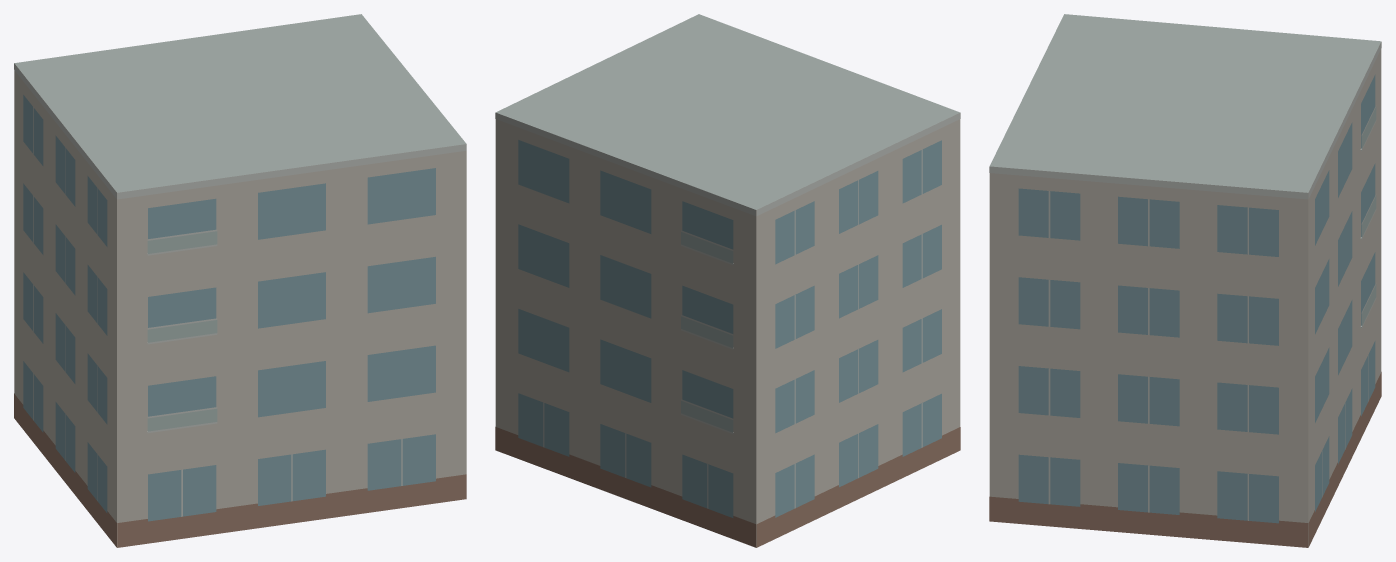
Rendered from survey-upis-32705039.glb.
3 renders of one model, left to right at view 1: azimuth 30°, elevation 25°; view 2: azimuth 150°, elevation 25°; view 3: azimuth 270°, elevation 25°, orthographic. The views are drawn at different scales.
Parts seen in each view (by area): view 1: survey-upis-32705039.tmp; view 2: survey-upis-32705039.tmp; view 3: survey-upis-32705039.tmp.
Part boxes in pixels (box(x1,y1,x2,y2)): survey-upis-32705039.tmp: box(14, 14, 466, 547); survey-upis-32705039.tmp: box(495, 14, 960, 547); survey-upis-32705039.tmp: box(989, 14, 1381, 547).
Size of the model in its own units: 14.06 by 13 by 13.02.
